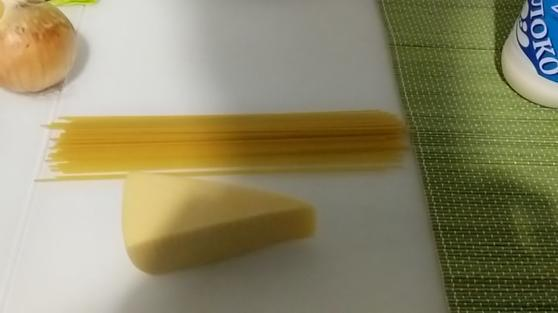cheese: (118, 173, 327, 268)
milk: (494, 1, 554, 115)
onion: (1, 5, 96, 96)
spaghetti: (36, 103, 422, 180)
